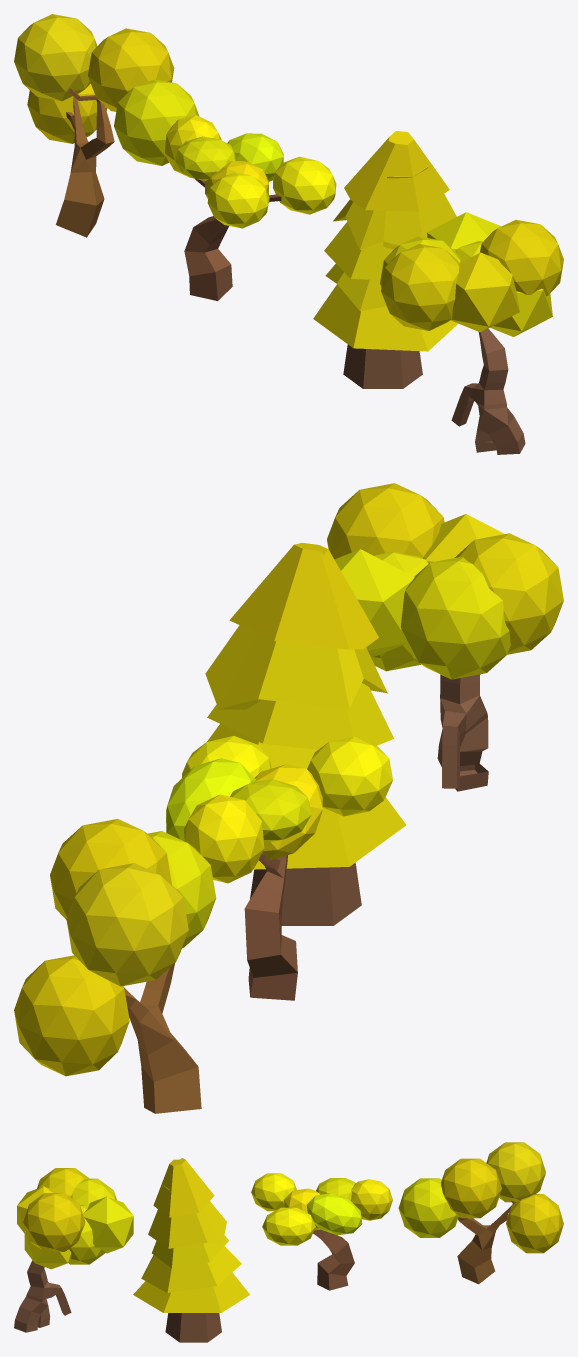
File: arvoreszinhas.fbx
3 renders of one model, top to bottom at view 1: azimuth 30°, elevation 25°; view 2: azimuth 150°, elevation 25°; view 3: azimuth 270°, elevation 25°, orthographic. The views are drawn at different scales.
Visible parts, largest first — view 1: Icosphere.007, Cylinder.005, Icosphere.016, Icosphere.005, Cube.002, Icosphere.009, Cylinder.001, Cube.001, Icosphere.015, Icosphere.012, Cylinder.004, Cube (+13 smaller); view 2: Icosphere.007, Icosphere.008, Icosphere.010, Cylinder.004, Cylinder.005, Icosphere.016, Cylinder.003, Icosphere.015, Cube.001, Icosphere.009, Cube, Cube.002 (+13 smaller); view 3: Icosphere.015, Icosphere.009, Icosphere.008, Cylinder.001, Icosphere.005, Icosphere.007, Cylinder.002, Cylinder.004, Cylinder.005, Icosphere.013, Cube.002, Cube.001 (+14 smaller).
Part boxes in pixels (bbox=[...]): Icosphere.007: bbox=[14, 14, 97, 101]; Cylinder.005: bbox=[344, 131, 449, 211]; Icosphere.016: bbox=[381, 244, 459, 330]; Icosphere.005: bbox=[114, 80, 199, 165]; Cube.002: bbox=[451, 328, 525, 454]; Icosphere.009: bbox=[88, 28, 174, 111]; Cylinder.001: bbox=[313, 284, 458, 351]; Cube.001: bbox=[56, 88, 114, 237]; Icosphere.015: bbox=[480, 219, 563, 295]; Icosphere.012: bbox=[450, 252, 519, 332]; Cylinder.004: bbox=[333, 194, 456, 249]; Cube: bbox=[184, 179, 281, 300]; Icosphere.007: bbox=[66, 863, 188, 986]; Icosphere.008: bbox=[14, 955, 129, 1076]; Icosphere.010: bbox=[400, 557, 510, 679]; Cylinder.004: bbox=[205, 625, 387, 709]; Cylinder.005: bbox=[229, 542, 378, 649]; Icosphere.016: bbox=[454, 533, 563, 654]; Cylinder.003: bbox=[207, 683, 393, 749]; Icosphere.015: bbox=[327, 483, 444, 559]; Cube.001: bbox=[123, 963, 201, 1113]; Icosphere.009: bbox=[50, 819, 171, 919]; Cube: bbox=[244, 853, 297, 1000]; Cube.002: bbox=[437, 674, 488, 791]; Icosphere.015: bbox=[23, 1193, 85, 1251]; Icosphere.009: bbox=[441, 1158, 501, 1218]; Icosphere.008: bbox=[506, 1194, 563, 1253]; Cylinder.001: bbox=[133, 1272, 249, 1312]; Icosphere.005: bbox=[398, 1178, 458, 1237]; Icosphere.007: bbox=[486, 1142, 545, 1202]; Cylinder.002: bbox=[141, 1246, 241, 1292]; Cylinder.004: bbox=[148, 1201, 226, 1248]; Cylinder.005: bbox=[153, 1158, 214, 1217]; Icosphere.013: bbox=[83, 1196, 133, 1253]; Cube.002: bbox=[14, 1260, 71, 1332]; Cube.001: bbox=[457, 1200, 515, 1284].
Size of the model in its own units: 617 by 682 by 1942.
